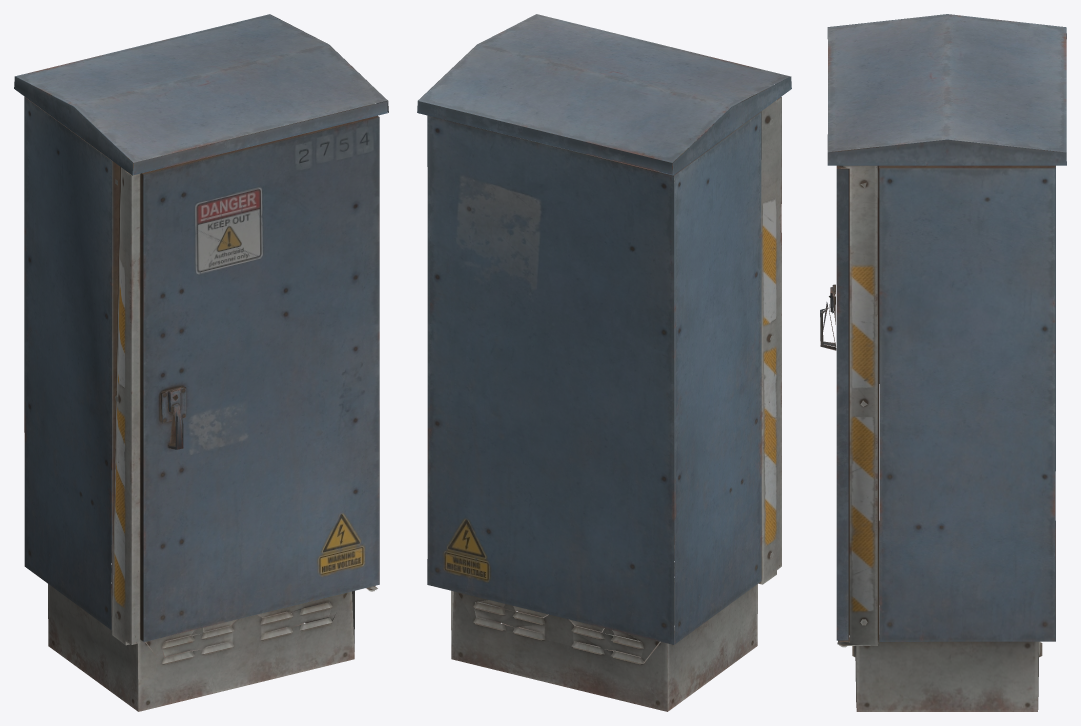
File: utility_box.glb
3 renders of one model, left to right at view 1: azimuth 30°, elevation 25°; view 2: azimuth 150°, elevation 25°; view 3: azimuth 270°, elevation 25°, orthographic.
Parts seen in each view (by area): view 1: utility_box_01_box; view 2: utility_box_01_box; view 3: utility_box_01_box.
Part boxes in pixels (<box>): utility_box_01_box: <box>14,14,388,711</box>; utility_box_01_box: <box>417,14,791,711</box>; utility_box_01_box: <box>820,14,1066,711</box>.
Size of the model in its own units: 0.5199 by 1.12 by 0.4299.
Materials: 1 (1 with a texture image).
